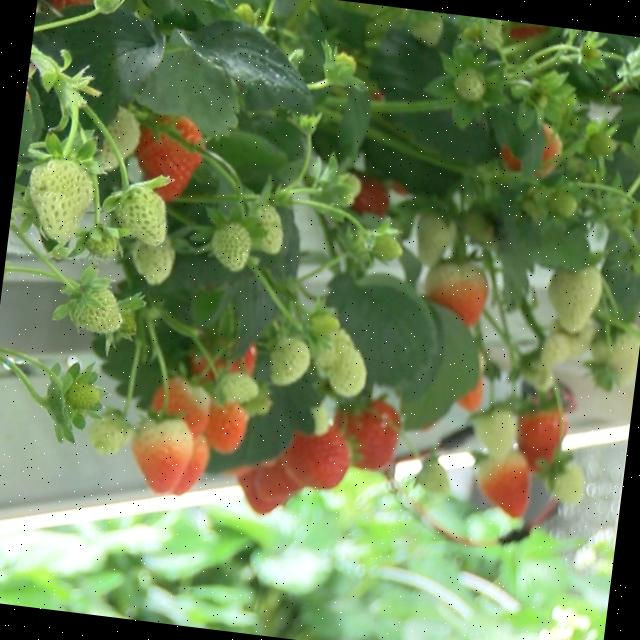Ripe Strawberry: (137, 118, 203, 194), (290, 434, 347, 488), (348, 411, 397, 468), (491, 472, 533, 516), (244, 470, 296, 505), (524, 421, 562, 464), (439, 286, 483, 321), (211, 408, 244, 452), (146, 456, 180, 492), (358, 180, 392, 214), (466, 392, 481, 410), (51, 0, 97, 5)
